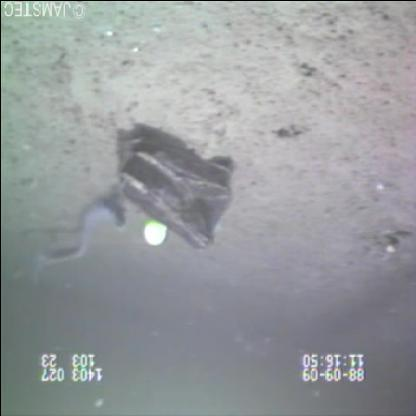Bio: (20, 188, 132, 288)
Rác: (113, 128, 240, 257)
